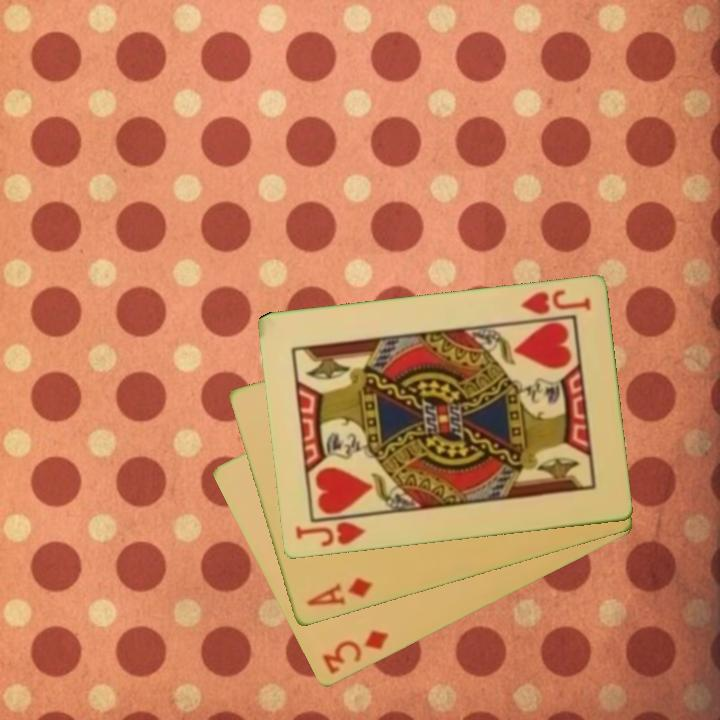3d: (319, 627, 392, 678)
Ad: (303, 574, 376, 610)
Jh: (291, 518, 368, 550), (516, 287, 593, 318)
